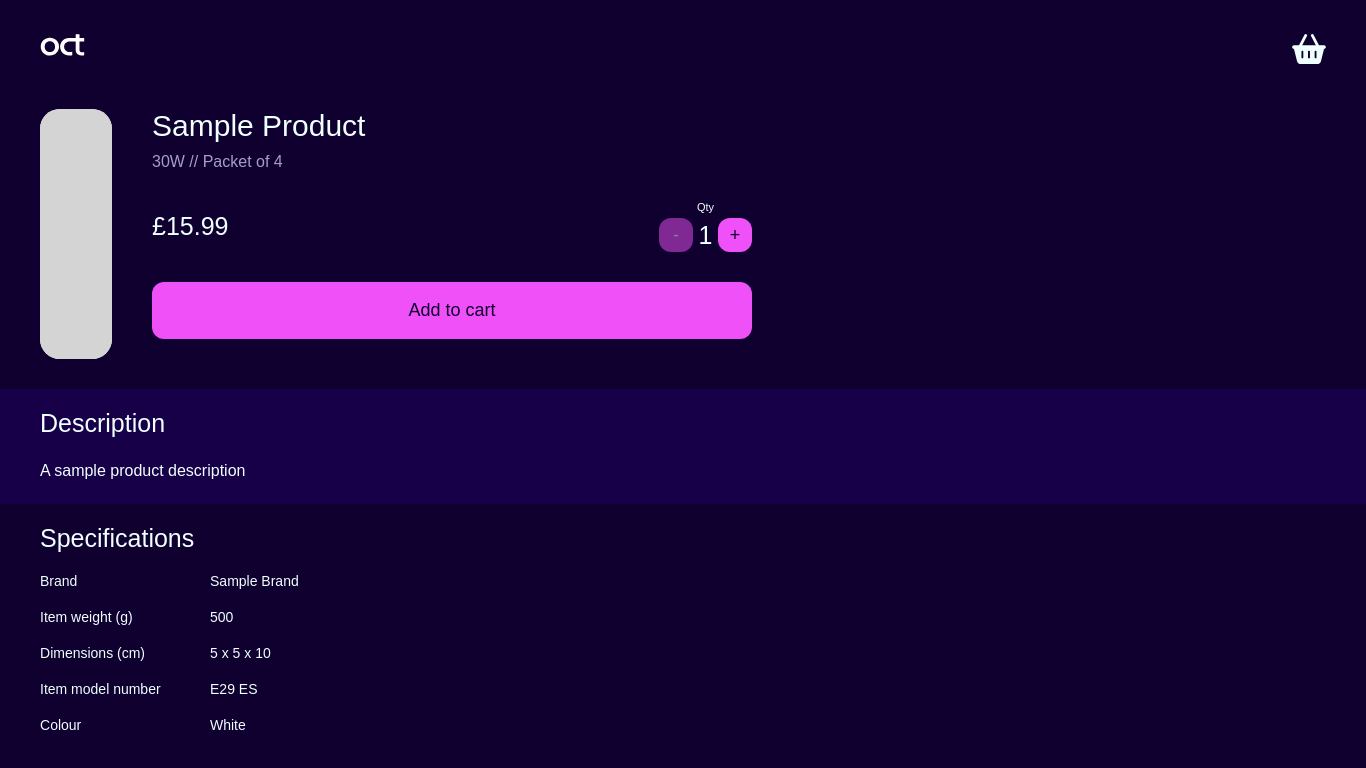
Test: ProductPage test cases › should display an error message when the cart is full
The width and height of the screenshot is (1366, 768).
Check: the heading "Sample Product" is shown, box x1=152 y1=109 x2=366 y2=142
Click the button with test id "increase-quantity" at (735, 235), box x1=718 y1=218 x2=752 y2=252
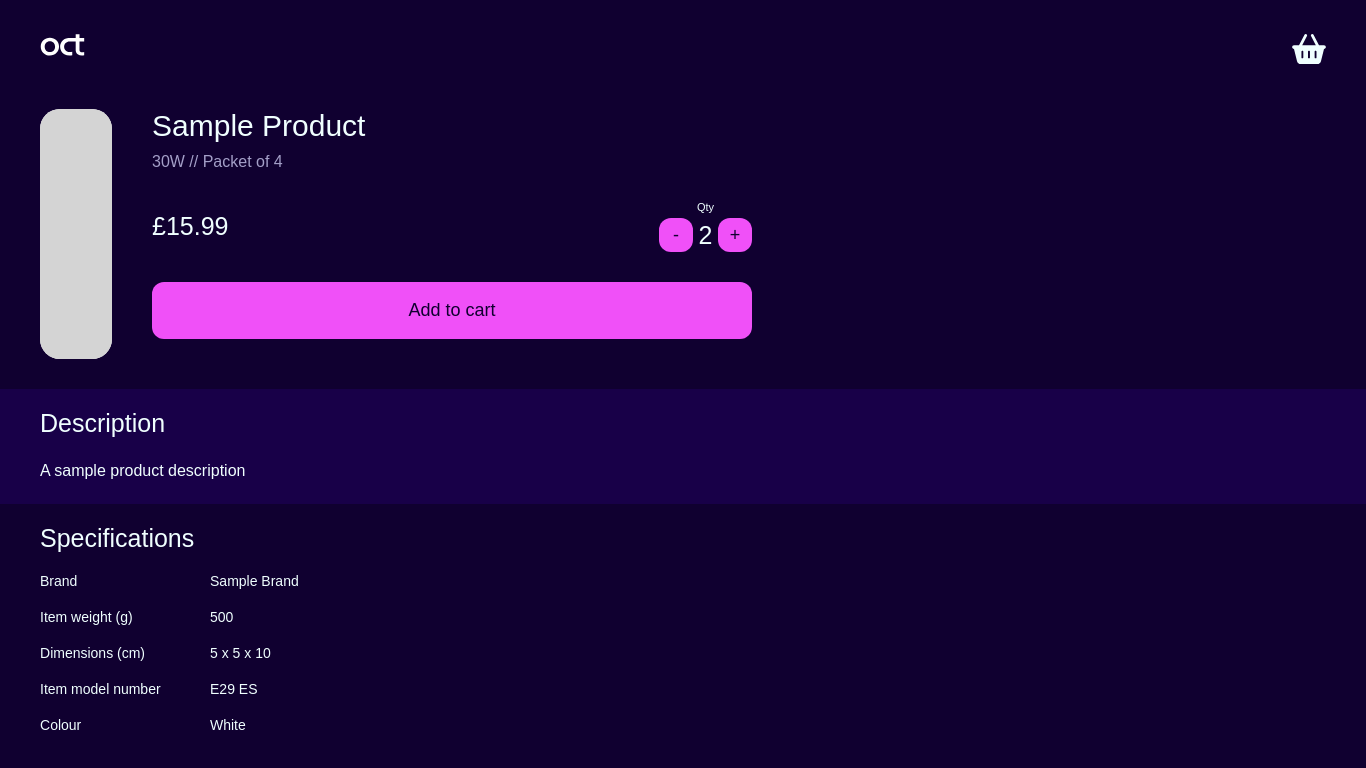
Click the button with test id "increase-quantity" at (735, 235), box x1=718 y1=218 x2=752 y2=252
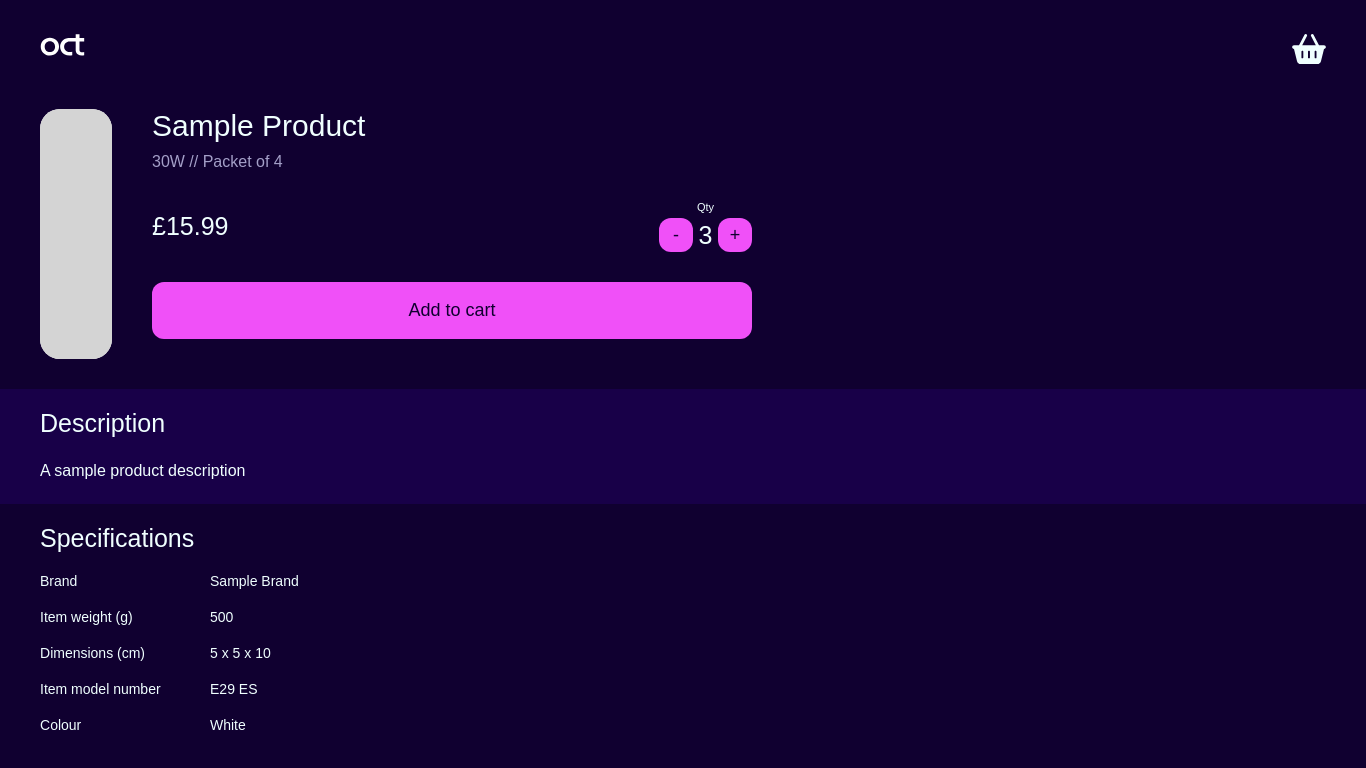
Click the button with test id "increase-quantity" at (735, 235), box x1=718 y1=218 x2=752 y2=252
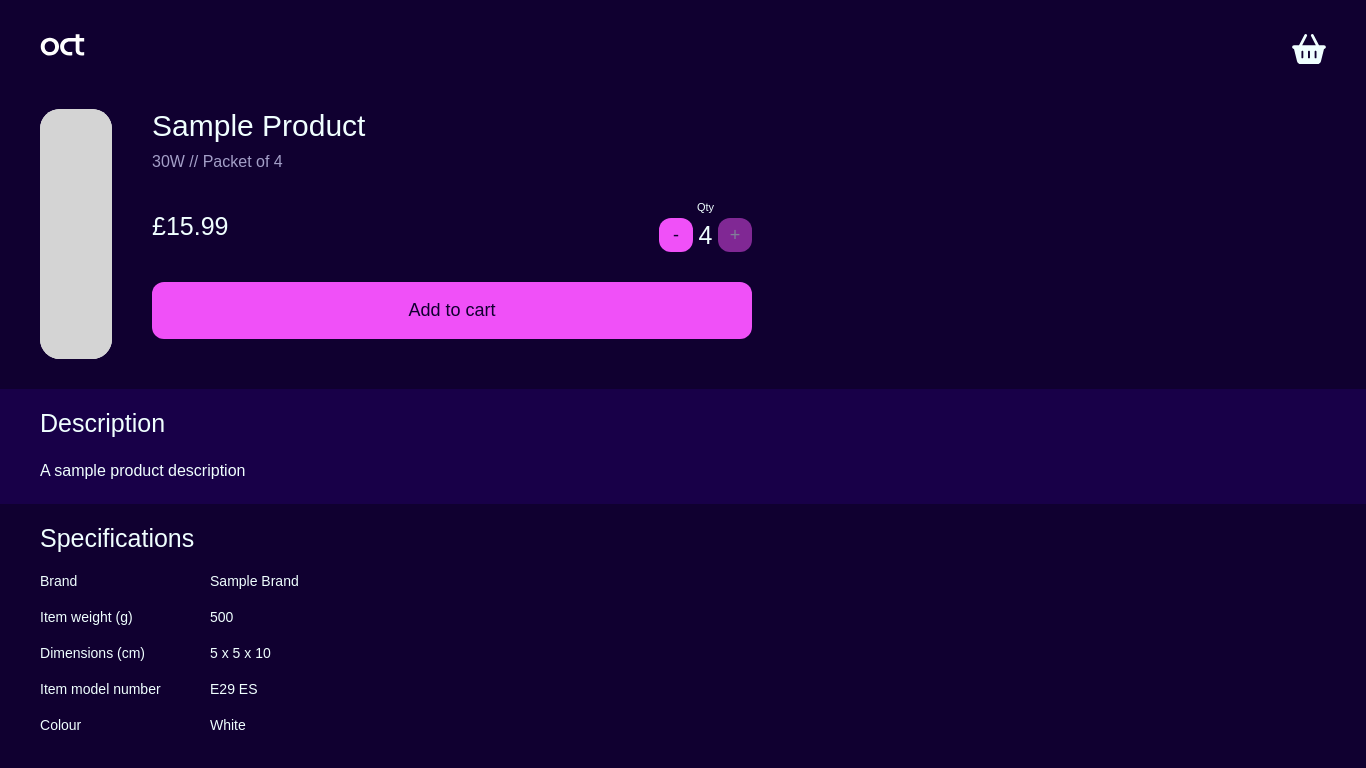
Click the button with test id "add-to-cart" at (452, 310), box x1=152 y1=282 x2=752 y2=339
Wait 500 ms
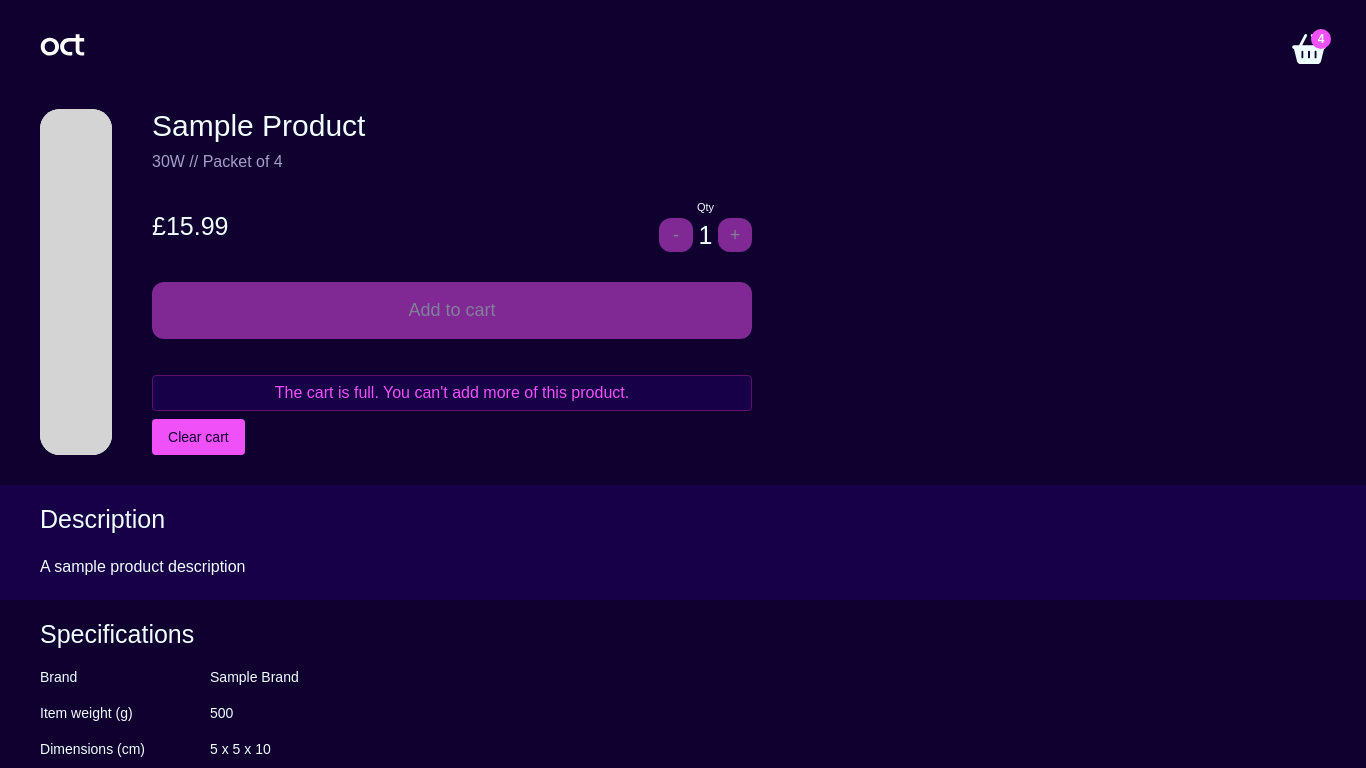
Check: the message "The cart is full. You can't add more of this product." is shown, box x1=152 y1=375 x2=752 y2=411
Check: the message with test id "cart-full-message" reads "The cart is full. You can't add more of this product.", box x1=275 y1=384 x2=629 y2=401
